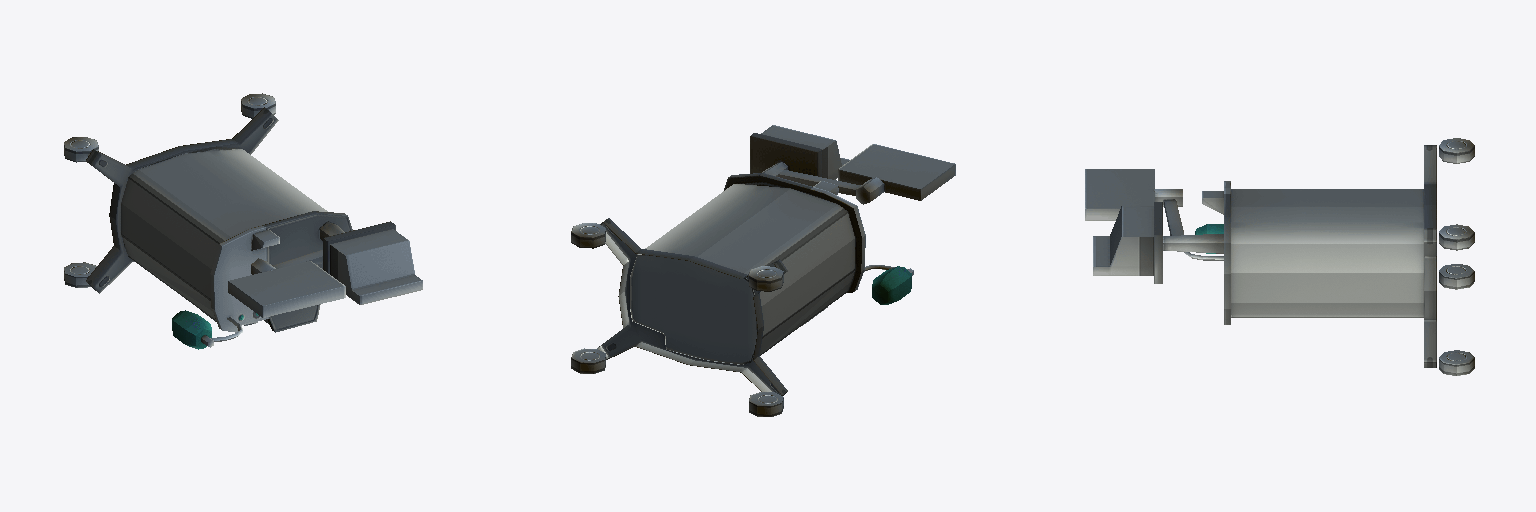
The picture shows the model from 3 angles: view 1: azimuth 30°, elevation 25°; view 2: azimuth 150°, elevation 25°; view 3: azimuth 270°, elevation 25°; orthographic projection.
Parts seen in each view (by area): view 1: AnesthesiaMachine; view 2: AnesthesiaMachine; view 3: AnesthesiaMachine.
Boxes of the visible parts, x1=… form: AnesthesiaMachine: x1=64, y1=93, x2=422, y2=349; AnesthesiaMachine: x1=571, y1=125, x2=955, y2=416; AnesthesiaMachine: x1=1085, y1=138, x2=1474, y2=375.
Bounding box in the file's own units: 1.22 × 0.7658 × 1.93.
1 materials, 1 textured.